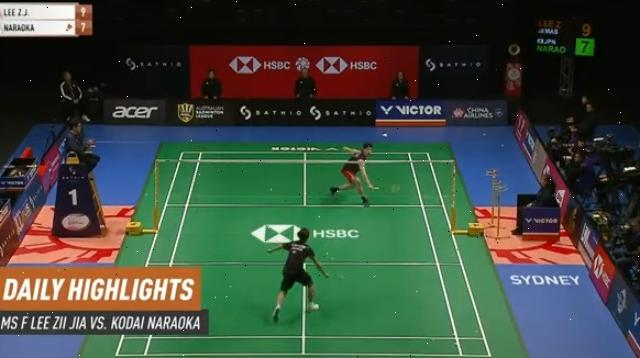Shuttlecock: (380, 130, 390, 142)
